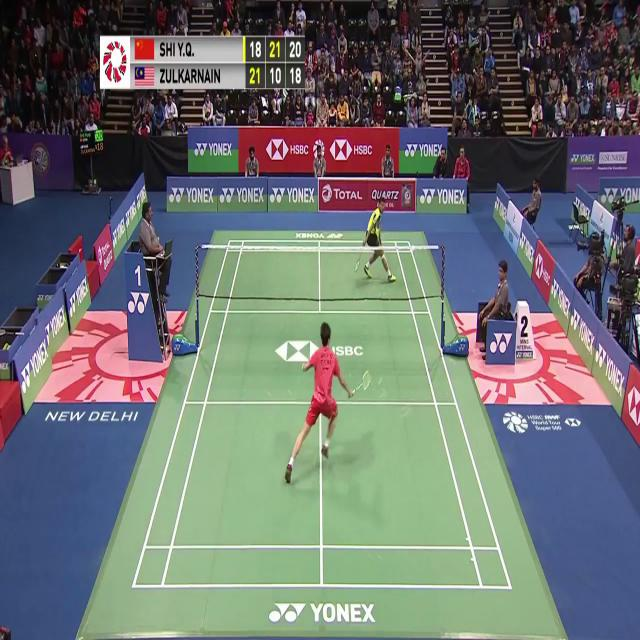Shuttlecock: (409, 245, 416, 256)
